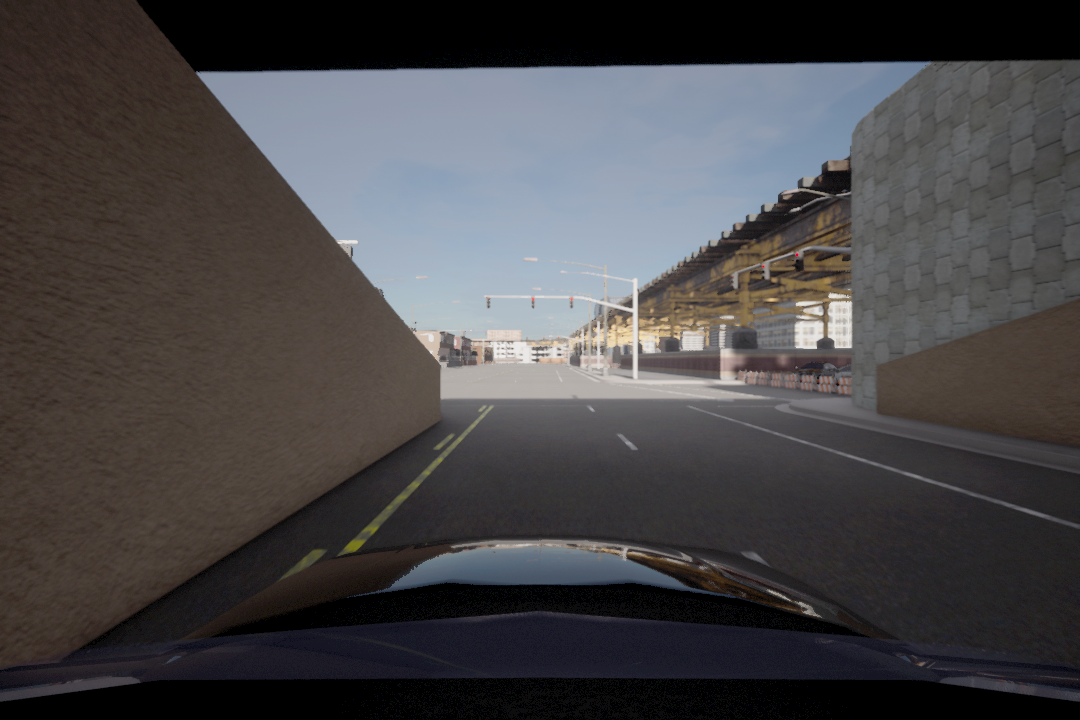TrafficLight: (568, 297, 576, 310), (530, 296, 538, 309), (484, 295, 491, 308)
